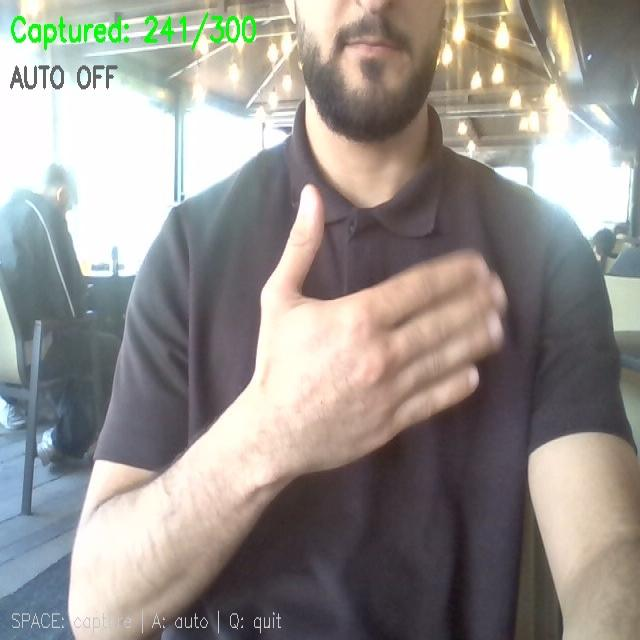Hand: (247, 187, 505, 477)
